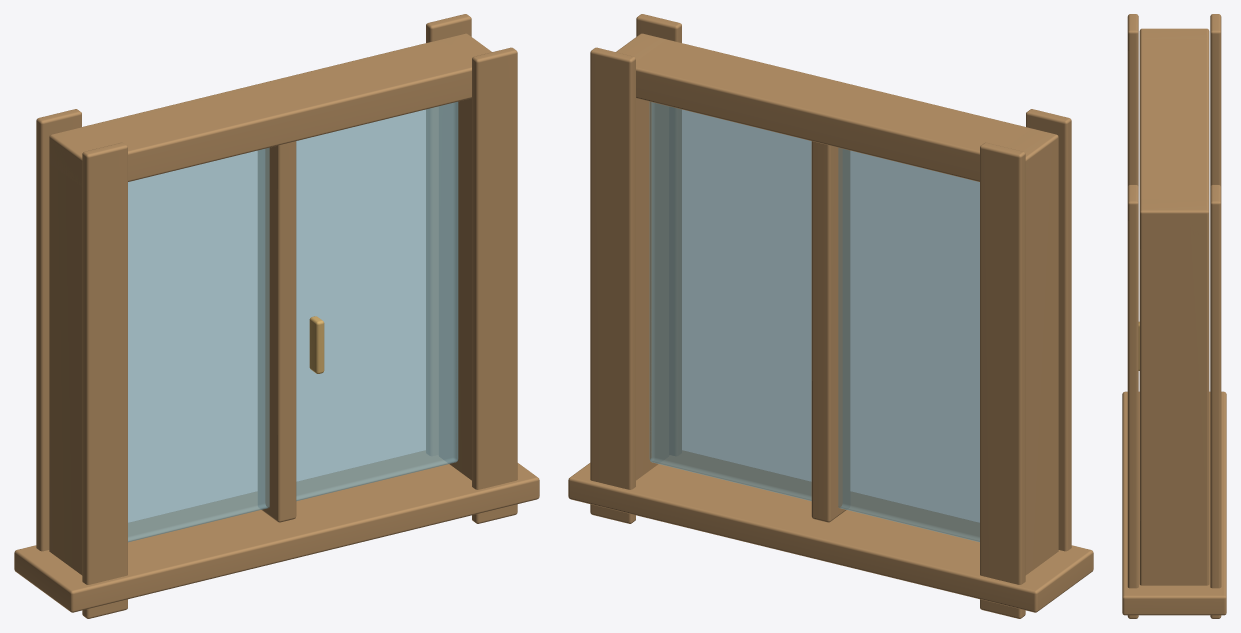
Rendered from window-square.glb.
The picture shows the model from 3 angles, left to right: view 1: azimuth 30°, elevation 25°; view 2: azimuth 150°, elevation 25°; view 3: azimuth 270°, elevation 25°; orthographic projection. The views are drawn at different scales.
Parts seen in each view (by area): view 1: Glazing.007, Sill.007, Lintel.017, Architrave.070, Architrave.068, Jamb.034, Mullion.005, Jamb.035, Architrave.069, Architrave.071, Latch.007; view 2: Glazing.007, Sill.007, Lintel.017, Architrave.071, Architrave.069, Jamb.034, Mullion.005, Jamb.035, Architrave.068, Architrave.070; view 3: Jamb.035, Lintel.017, Sill.007, Architrave.070, Architrave.071, Architrave.068, Architrave.069, Jamb.034.
Part boxes in pixels (box(x1,y1,x2,y2)): Glazing.007: box(128, 101, 458, 542); Sill.007: box(14, 450, 539, 612); Lintel.017: box(50, 33, 484, 186); Architrave.070: box(472, 47, 517, 523); Architrave.068: box(82, 142, 127, 618); Jamb.034: box(49, 128, 101, 575); Mullion.005: box(258, 141, 296, 522); Jamb.035: box(439, 33, 491, 480); Architrave.069: box(36, 109, 81, 551); Architrave.071: box(426, 14, 471, 455); Latch.007: box(309, 316, 324, 373); Glazing.007: box(649, 102, 979, 542); Sill.007: box(568, 450, 1093, 612); Lintel.017: box(636, 33, 1056, 184); Architrave.071: box(590, 47, 635, 523); Architrave.069: box(980, 142, 1025, 618); Jamb.034: box(1006, 128, 1058, 575); Mullion.005: box(811, 141, 849, 522); Jamb.035: box(616, 33, 668, 480); Architrave.068: box(1026, 109, 1071, 551); Architrave.070: box(636, 14, 681, 455); Jamb.035: box(1139, 199, 1209, 585); Lintel.017: box(1139, 29, 1209, 231); Sill.007: box(1122, 391, 1226, 615); Architrave.070: box(1127, 184, 1138, 618); Architrave.071: box(1210, 184, 1221, 618); Architrave.068: box(1127, 14, 1138, 186); Architrave.069: box(1210, 14, 1221, 186); Jamb.034: box(1139, 28, 1209, 40).
Size of the model in its own units: 1.12 by 1.06 by 0.24.
